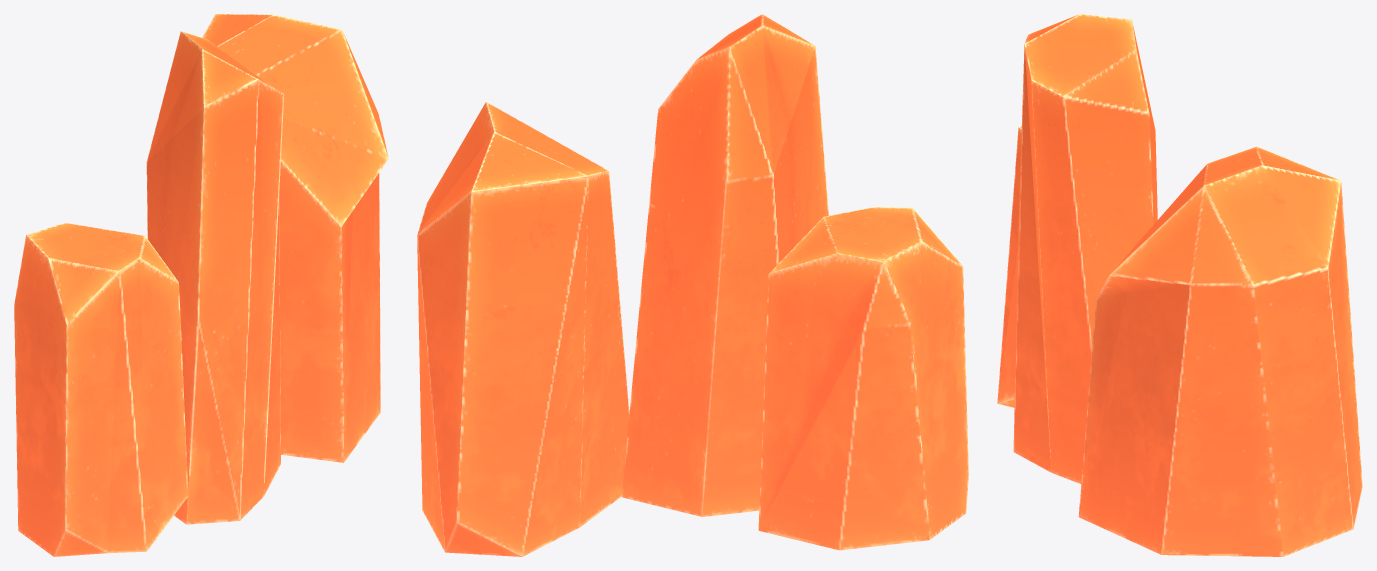
3 views of the same model, side by side, from view 1: azimuth 30°, elevation 25°; view 2: azimuth 150°, elevation 25°; view 3: azimuth 270°, elevation 25° (orthographic). The views are drawn at different scales.
Visible parts, largest first — view 1: 3; view 2: 3; view 3: 3.
Boxes of the visible parts, <box> form: 3: <box>14,14,388,556</box>; 3: <box>417,14,968,556</box>; 3: <box>997,14,1362,556</box>.
Bounding box in the file's own units: 376 × 394 × 299.
